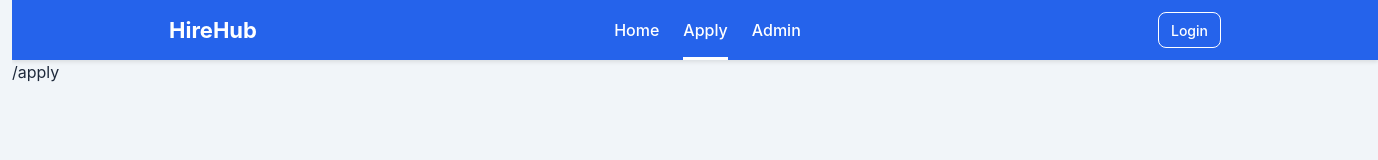
Test: Header › follows the Admin route without invoking logout
What coordinates should you click on to do the following:
click the link "Admin"
I would click on:
 (776, 30)
Its box is 752,20 -> 801,40.
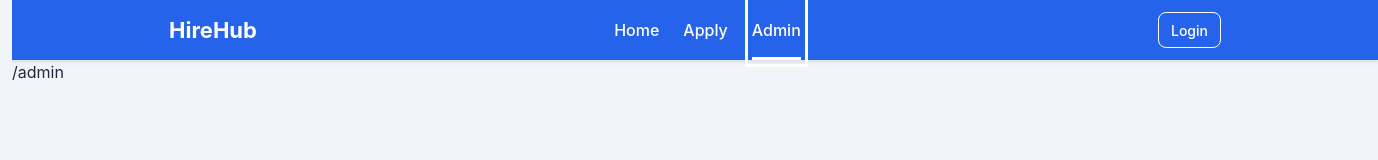
expect the text named "Current route" reads "/admin": met, box 12,62 -> 64,82
